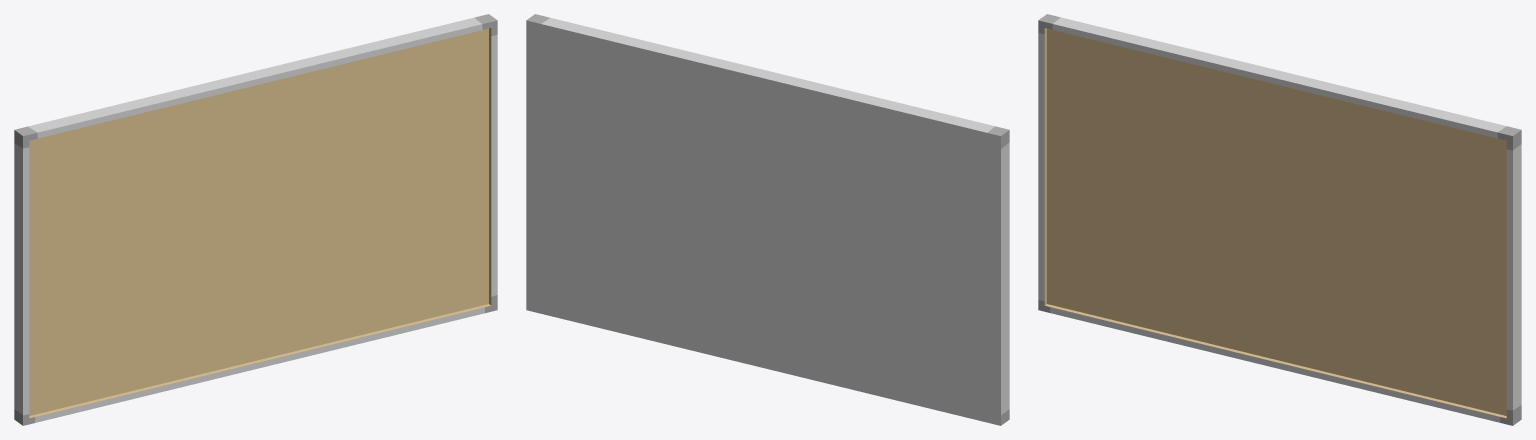
Rendered from board2.fbx.
3 renders of one model, left to right at view 1: azimuth 30°, elevation 25°; view 2: azimuth 150°, elevation 25°; view 3: azimuth 330°, elevation 25°, orthographic.
Visible parts, largest first — view 1: Boole_1; view 2: Boole_1; view 3: Boole_1.
Part boxes in pixels (x1=…): Boole_1: x1=14, y1=14, x2=497, y2=425; Boole_1: x1=526, y1=14, x2=1009, y2=425; Boole_1: x1=1038, y1=14, x2=1521, y2=425.
Bounding box in the file's own units: 200 × 117 × 6.41.
